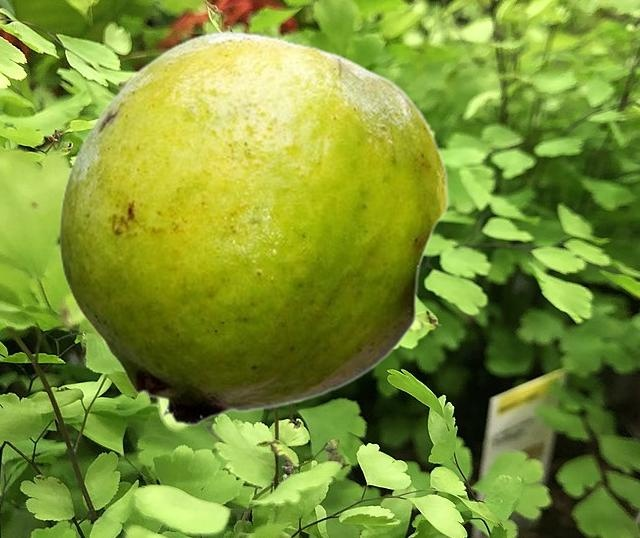guava: (58, 30, 448, 426)
